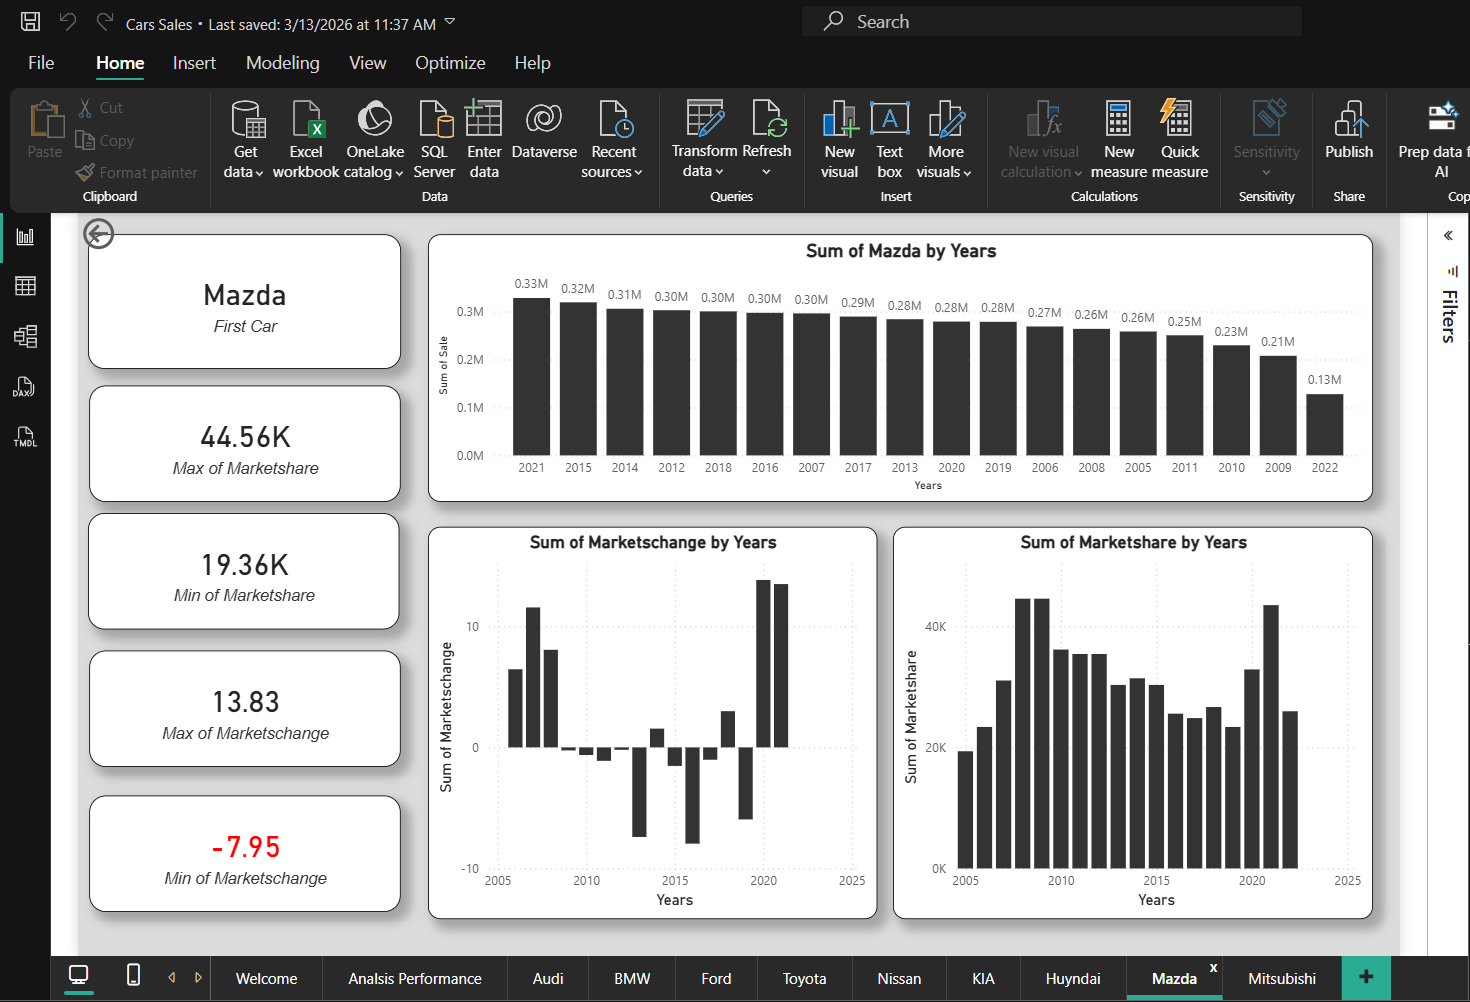

Layout of this report page (visuals, bound fields, positions):
{"tool":"powerbi","page":{"name":"Mazda","canvas":[1280,720],"ordinal":9},"visuals":[{"type":"card","fields":{"Values":["Min(CAR SALES GLOBALY.Car)"]},"box":[9.6,20.6,303.3,130.4],"z":0},{"type":"actionButton","box":[0,0,100,40],"z":1000},{"type":"card","fields":{"Values":["Max(CAR SALES GLOBALY.Marketshare)"]},"box":[11,167.4,301.9,112.5],"z":2000},{"type":"card","fields":{"Values":["Min(CAR SALES GLOBALY.Marketshare)"]},"box":[9.6,290.9,301.9,112.5],"z":3000},{"type":"card","fields":{"Values":["Max(CAR SALES GLOBALY.Marketschange)"]},"box":[11,424,301.9,112.5],"z":4000},{"type":"card","fields":{"Values":["Min(CAR SALES GLOBALY.Marketschange)"]},"box":[11,564,301.9,112.5],"z":5000},{"type":"columnChart","title":"Sum of Mazda by Years","fields":{"Category":["CAR SALES GLOBALY.Years"],"Y":["Sum(CAR SALES GLOBALY.Sale)"]},"box":[338.9,20.6,915.3,259.3],"z":6000},{"type":"lineStackedColumnComboChart","fields":{"Category":["CAR SALES GLOBALY.Years"],"Y":["Sum(CAR SALES GLOBALY.Marketschange)"]},"box":[338.9,303.3,435,380.1],"z":7000},{"type":"lineStackedColumnComboChart","fields":{"Category":["CAR SALES GLOBALY.Years"],"Y":["Sum(CAR SALES GLOBALY.Marketshare)"]},"box":[789,303.3,465.2,380.1],"z":8000}]}

Visuals, with their boxes on the page's 1280x720 design canvas (x1, y1, x2, y2). These are canvas units, not pixel positions in the 1470x1002 screenshot, which may show the page scaled, cropped or inside an application window:
card - Min(CAR SALES GLOBALY.Car): detection(10, 21, 313, 151)
actionButton: detection(0, 0, 100, 40)
card - Max(CAR SALES GLOBALY.Marketshare): detection(11, 167, 313, 280)
card - Min(CAR SALES GLOBALY.Marketshare): detection(10, 291, 312, 403)
card - Max(CAR SALES GLOBALY.Marketschange): detection(11, 424, 313, 536)
card - Min(CAR SALES GLOBALY.Marketschange): detection(11, 564, 313, 676)
"Sum of Mazda by Years" columnChart: detection(339, 21, 1254, 280)
lineStackedColumnComboChart - CAR SALES GLOBALY.Years x Sum(CAR SALES GLOBALY.Marketschange): detection(339, 303, 774, 683)
lineStackedColumnComboChart - CAR SALES GLOBALY.Years x Sum(CAR SALES GLOBALY.Marketshare): detection(789, 303, 1254, 683)
